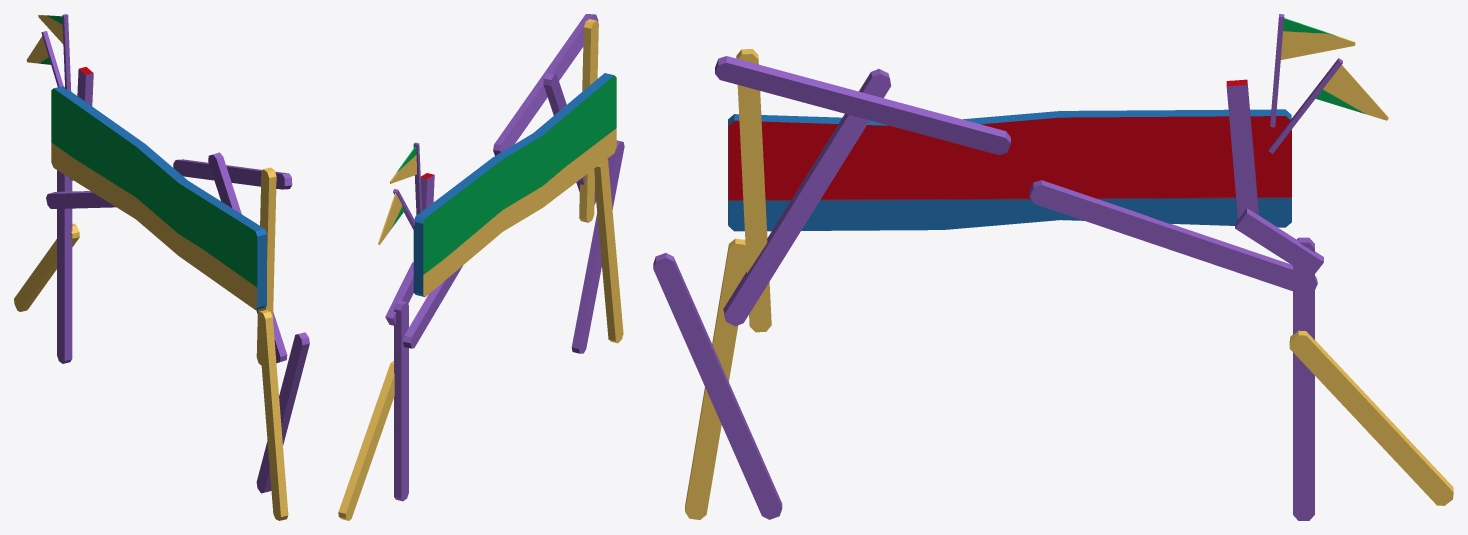
The model's file is PV_bannerS.fbx.
The picture shows the model from 3 angles, left to right: view 1: azimuth 30°, elevation 25°; view 2: azimuth 150°, elevation 25°; view 3: azimuth 270°, elevation 25°; orthographic projection. The views are drawn at different scales.
Visible parts, largest first — view 1: pCube42; view 2: pCube42; view 3: pCube42.
Part boxes in pixels (x1,y1,x2,y2): pCube42: (14, 14, 309, 520); pCube42: (338, 14, 624, 520); pCube42: (653, 14, 1453, 520).
Size of the model in its own units: 275 by 2503 by 3645.
